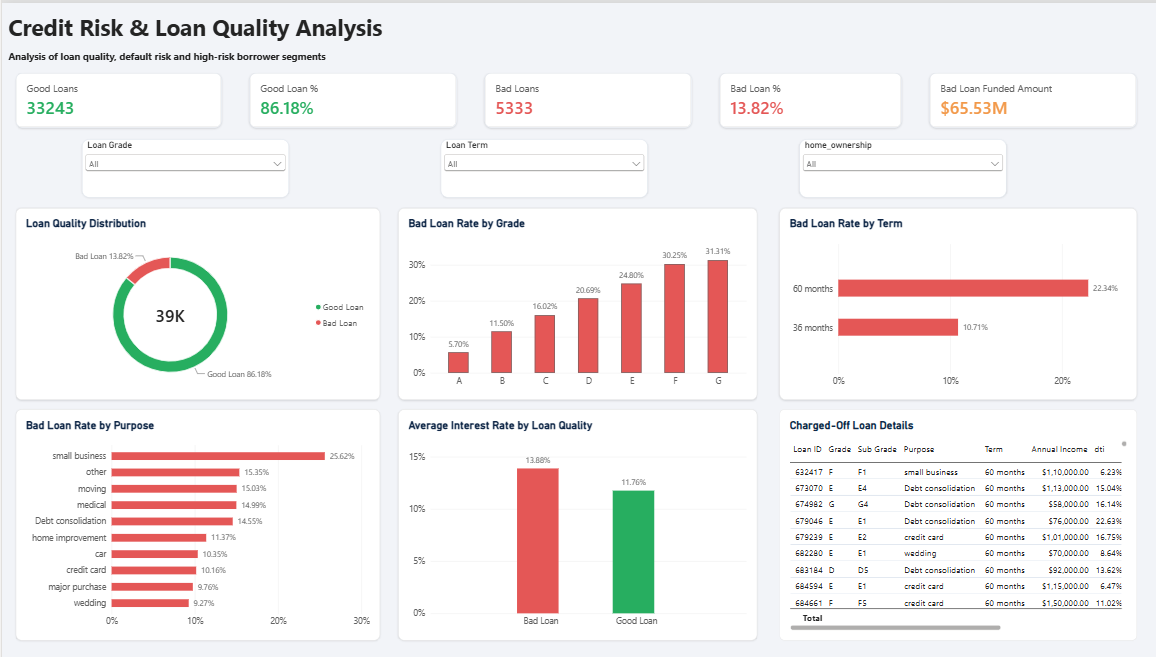

Layout of this report page (visuals, bound fields, positions):
{"tool":"powerbi","page":{"name":"Credit Risk Analysis","canvas":[1920,1080],"ordinal":1},"visuals":[{"type":"textbox","box":[10.3,14.4,759.5,61.7],"z":0},{"type":"textbox","box":[10.3,76.2,545.5,41.2],"z":1},{"type":"cardVisual","fields":{"Data":["Financial_Loans.Good Loan Applications"]},"box":[23.1,115.4,339.3,90],"z":2},{"type":"cardVisual","fields":{"Data":["Financial_Loans.Good Loan %"]},"box":[408.6,115.4,341.6,90],"z":3},{"type":"cardVisual","fields":{"Data":["Financial_Loans.Bad Loan Applications"]},"box":[794,115.4,341.6,90],"z":4},{"type":"cardVisual","fields":{"Data":["Financial_Loans.Bad Loan %"]},"box":[1181.8,115.4,300.1,90],"z":5},{"type":"cardVisual","fields":{"Data":["Financial_Loans.Bad Loan Funded Amount"]},"box":[1528.1,115.4,341.6,90],"z":6},{"type":"slicer","fields":{"Values":["Financial_Loans.grade"]},"box":[132.3,225,341.1,96.1],"z":7},{"type":"slicer","fields":{"Values":["Financial_Loans.home_ownership"]},"box":[1313.4,225,341.1,96.1],"z":8},{"type":"slicer","fields":{"Values":["Financial_Loans.term"]},"box":[722.8,225,341.1,96.1],"z":9},{"type":"donutChart","title":"Loan Quality Distribution","fields":{"Category":["Financial_Loans.Loan Category"],"Y":["Financial_Loans.Total Loan Applications"]},"box":[23.1,337,600.1,316.2],"z":10},{"type":"clusteredColumnChart","title":"Bad Loan Rate by Grade","fields":{"Category":["Financial_Loans.grade"],"Y":["Financial_Loans.Bad Loan %"]},"box":[653.2,337,590.9,316.2],"z":11},{"type":"clusteredBarChart","title":"Bad Loan Rate by Term","fields":{"Category":["Financial_Loans.term"],"Y":["Financial_Loans.Bad Loan %"]},"box":[1281.1,337,588.6,316.2],"z":12},{"type":"clusteredBarChart","title":"Bad Loan Rate by Purpose","fields":{"Category":["Financial_Loans.purpose"],"Y":["Financial_Loans.Bad Loan %"]},"box":[23.1,669.4,600.1,380.9],"z":13},{"type":"clusteredColumnChart","title":"Average Interest Rate by Loan Quality","fields":{"Category":["Financial_Loans.Loan Category"],"Y":["Financial_Loans.Average Interest Rate"]},"box":[653.2,669.4,590.9,380.9],"z":14},{"type":"tableEx","title":"Charged-Off Loan Details","fields":{"Values":["Financial_Loans.id","Financial_Loans.grade","Financial_Loans.sub_grade","Financial_Loans.purpose","Financial_Loans.term","Financial_Loans.annual_income","Financial_Loans.dti","Financial_Loans.int_rate","Financial_Loans.loan_amount","Financial_Loans.total_payment"]},"box":[1281.1,669.4,589,381],"z":15}]}

Visuals, with their boxes in screenshot pixels (x1, y1, x2, y2), scaled from the page's 1920x1080 canvas onto the 1156x657 screenshot:
textbox: box=[6, 9, 463, 46]
textbox: box=[6, 46, 335, 71]
cardVisual - Financial_Loans.Good Loan Applications: box=[14, 70, 218, 125]
cardVisual - Financial_Loans.Good Loan %: box=[246, 70, 452, 125]
cardVisual - Financial_Loans.Bad Loan Applications: box=[478, 70, 684, 125]
cardVisual - Financial_Loans.Bad Loan %: box=[712, 70, 892, 125]
cardVisual - Financial_Loans.Bad Loan Funded Amount: box=[920, 70, 1126, 125]
slicer - Financial_Loans.grade: box=[80, 137, 285, 195]
slicer - Financial_Loans.home_ownership: box=[791, 137, 996, 195]
slicer - Financial_Loans.term: box=[435, 137, 641, 195]
"Loan Quality Distribution" donutChart: box=[14, 205, 375, 397]
"Bad Loan Rate by Grade" clusteredColumnChart: box=[393, 205, 749, 397]
"Bad Loan Rate by Term" clusteredBarChart: box=[771, 205, 1126, 397]
"Bad Loan Rate by Purpose" clusteredBarChart: box=[14, 407, 375, 639]
"Average Interest Rate by Loan Quality" clusteredColumnChart: box=[393, 407, 749, 639]
"Charged-Off Loan Details" tableEx: box=[771, 407, 1126, 639]
